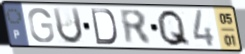4: (191, 9, 217, 49)
D: (89, 7, 119, 46)
G: (27, 7, 56, 44)
Q: (156, 8, 193, 48)
R: (118, 8, 154, 46)
U: (50, 6, 85, 46)
